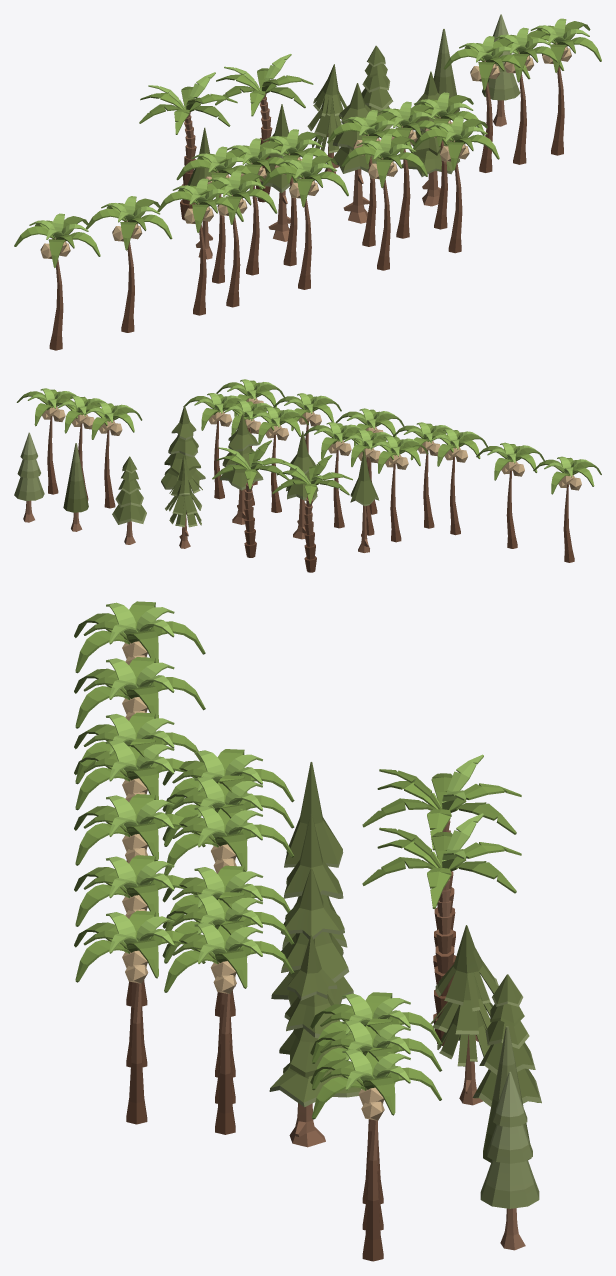
The picture shows the model from 3 angles, top to bottom: view 1: azimuth 30°, elevation 25°; view 2: azimuth 150°, elevation 25°; view 3: azimuth 270°, elevation 25°; orthographic projection. The views are drawn at different scales.
Visible parts, largest first — view 1: palm_3.001, palm_1.097, palm_1.094, palm_1.095, palm_1.098, palm_1.096, palm_1.102, palm_3, palm_1.012, palm_1.014, palm_1.092, fir_tree_3 (+14 smaller); view 2: palm_3.001, palm_3, fir_tree_4, fir_tree_8, palm_1.097, palm_1.098, fir_tree_9, palm_1, palm_1.012, fir_tree_3, palm_1.102, palm_1.014 (+14 smaller); view 3: fir_tree_4, palm_3, palm_1.095, palm_1.014, palm_1.003, fir_tree_8, fir_tree_35, palm_3.001, fir_tree_3, palm_1.096, palm_1.094, palm_1.002 (+14 smaller).
Boxes of the visible parts, x1,y1,x2,y2 form: palm_3.001: (139, 72, 237, 220); palm_1.097: (14, 213, 100, 350); palm_1.094: (262, 153, 348, 289); palm_1.095: (413, 116, 499, 253); palm_1.098: (86, 196, 172, 332); palm_1.096: (341, 133, 427, 270); palm_1.102: (157, 178, 243, 315); palm_3: (215, 54, 313, 202); palm_1.012: (443, 36, 530, 172); palm_1.014: (527, 18, 601, 155); palm_1.092: (192, 170, 277, 307); fir_tree_3: (332, 83, 379, 223); palm_3.001: (272, 455, 352, 572); palm_3: (212, 440, 290, 557); fir_tree_4: (161, 405, 205, 489); fir_tree_8: (165, 456, 202, 548); palm_1.097: (533, 456, 601, 562); palm_1.098: (476, 442, 544, 548); fir_tree_9: (112, 456, 146, 544); palm_1: (364, 436, 428, 542); palm_1.012: (78, 402, 142, 508); fir_tree_3: (219, 414, 263, 524); palm_1.102: (423, 429, 487, 535); palm_1.014: (16, 388, 77, 494); fir_tree_4: (269, 935, 360, 1147); palm_3: (362, 813, 521, 1045); palm_1.095: (74, 910, 205, 1124); palm_1.014: (310, 1047, 441, 1261); palm_1.003: (162, 921, 294, 1134); fir_tree_8: (430, 925, 498, 1105); fir_tree_35: (480, 1071, 539, 1250); palm_3.001: (362, 754, 521, 968); fir_tree_3: (271, 868, 353, 1005); palm_1.096: (74, 855, 195, 1067); palm_1.094: (74, 794, 205, 1006); palm_1.002: (162, 804, 294, 1016).
Bounding box in the file's own units: 33.48 × 6.73 × 13.11.
Materials: 17 (17 with a texture image).
